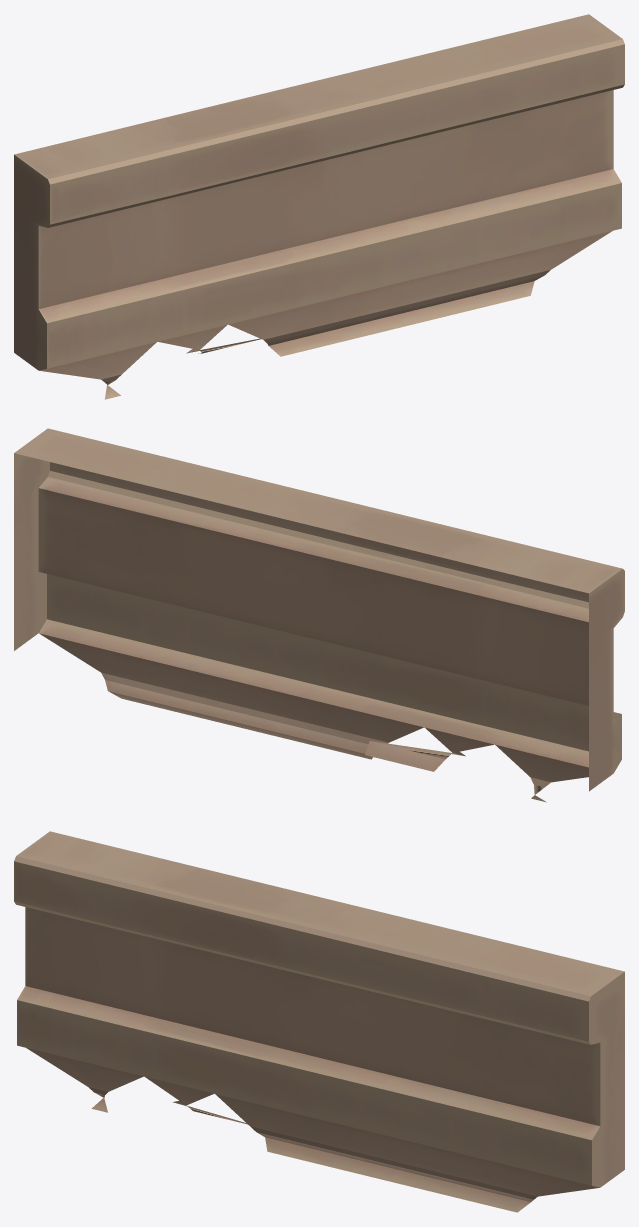
The model's file is WallPanel_shot.fbx.
3 renders of one model, top to bottom at view 1: azimuth 30°, elevation 25°; view 2: azimuth 150°, elevation 25°; view 3: azimuth 330°, elevation 25°, orthographic.
Visible parts, largest first — view 1: WallPanel (10); view 2: WallPanel (10); view 3: WallPanel (10).
Boxes of the visible parts, bbox=[...] form: WallPanel (10): bbox=[14, 14, 624, 399]; WallPanel (10): bbox=[14, 428, 624, 802]; WallPanel (10): bbox=[14, 831, 624, 1212].
Bounding box in the file's own units: 498 × 201 × 53.95.
1 material, 1 textured.
